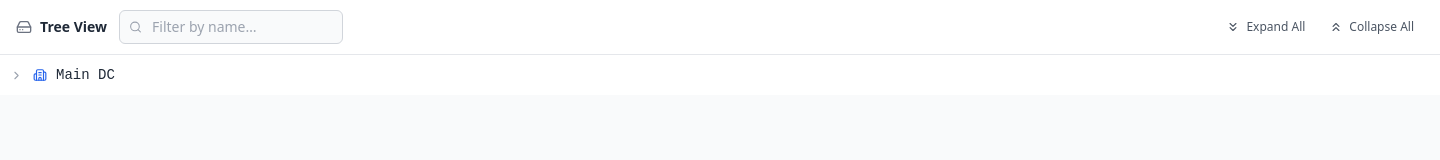
Test: TreeView page › lazy-loads rooms when datacenter is expanded
This screenshot has width=1440, height=160.
Expected: the text "Main DC" is shown, [56,67,115,83]
Click the button named "Expand".
click(16, 75)  # box [6,65,26,85]
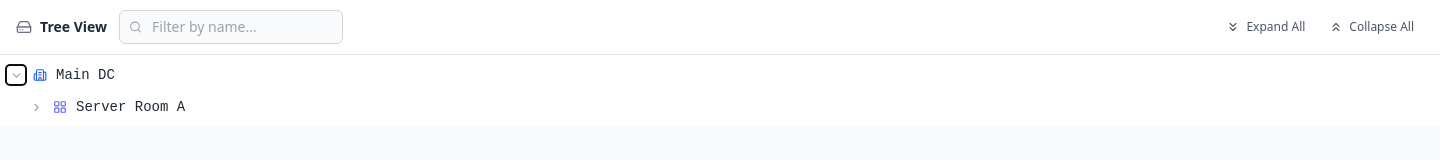
Expected: the text "Server Room A" is shown, [76,99,185,115]
